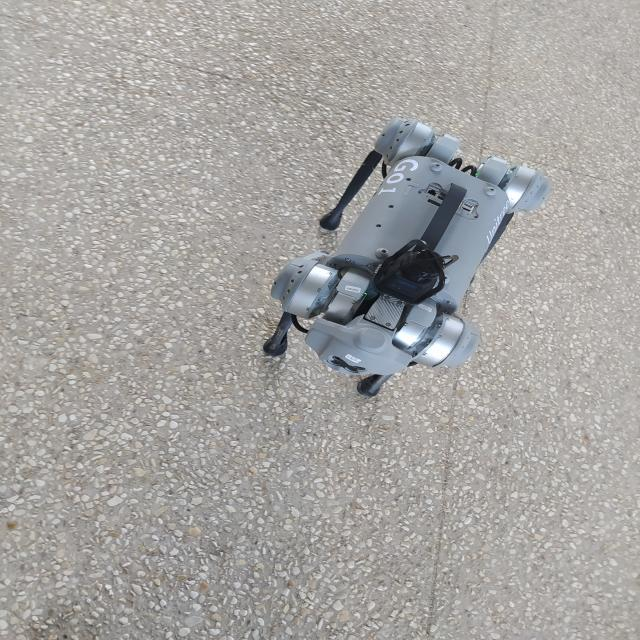unitree-go1-robot: (246, 113, 564, 409)
